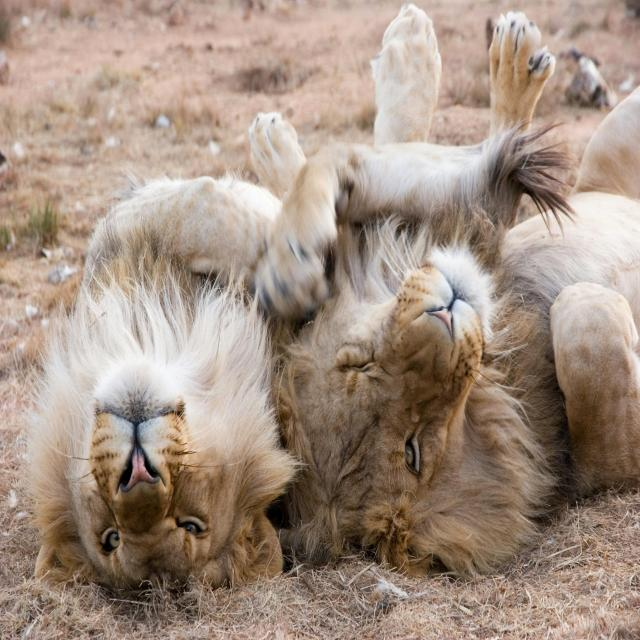Lion: (36, 4, 442, 601), (277, 10, 640, 586)
